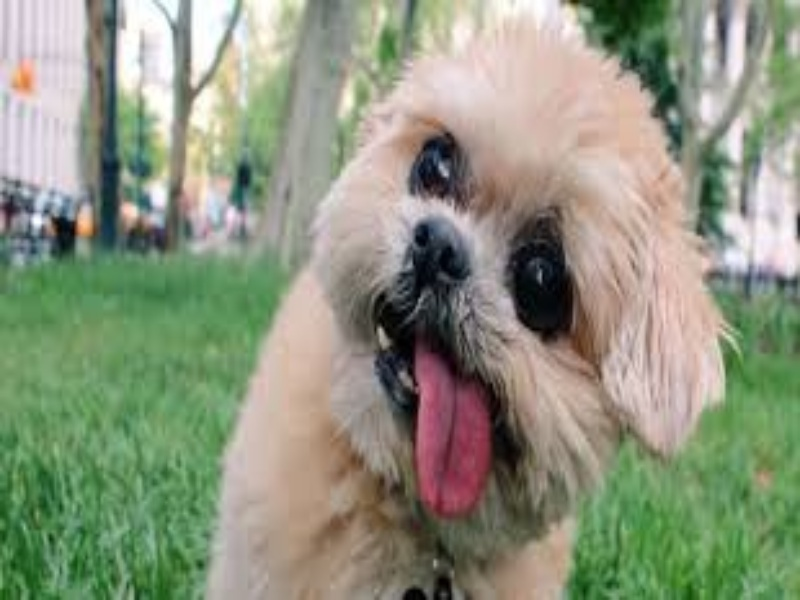dog: (167, 6, 737, 585)
